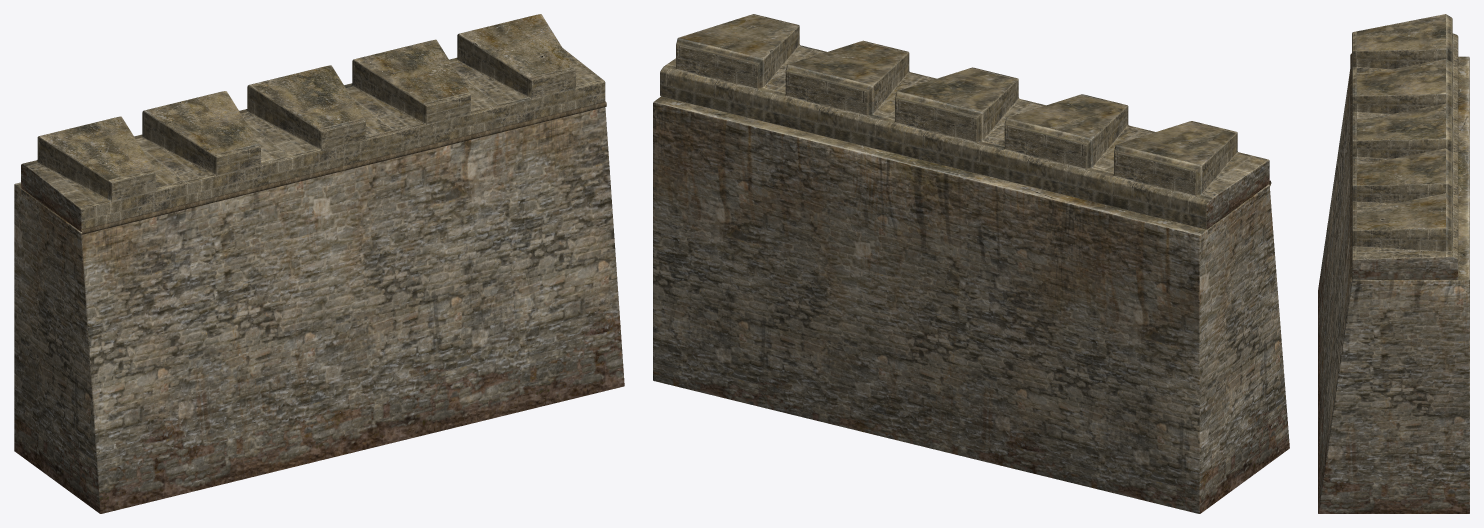
The model's file is arena_wall_thick.obj.
The picture shows the model from 3 angles, left to right: view 1: azimuth 30°, elevation 25°; view 2: azimuth 150°, elevation 25°; view 3: azimuth 270°, elevation 25°; orthographic projection. The views are drawn at different scales.
Visible parts, largest first — view 1: modular_fort_01_wall_thick_straight_01; view 2: modular_fort_01_wall_thick_straight_01; view 3: modular_fort_01_wall_thick_straight_01.
Part boxes in pixels (box(x1,y1,x2,y2)): modular_fort_01_wall_thick_straight_01: box(14, 14, 624, 513); modular_fort_01_wall_thick_straight_01: box(653, 14, 1289, 513); modular_fort_01_wall_thick_straight_01: box(1318, 14, 1469, 513).
Bounding box in the file's own units: 14.56 × 8.53 × 4.17.
